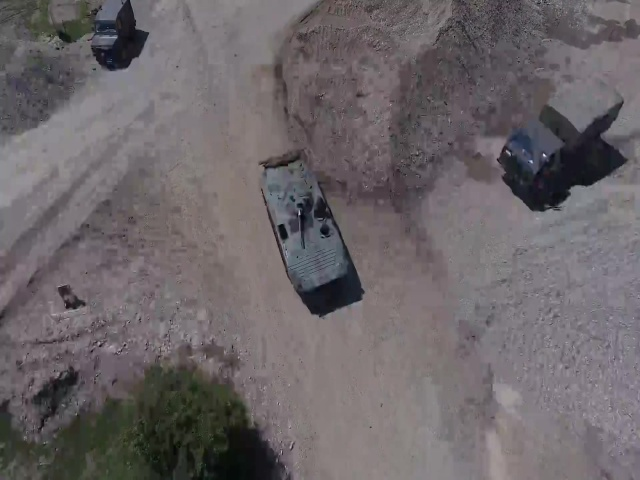vehicle: (497, 75, 625, 197), (258, 153, 356, 305), (89, 1, 137, 63)
